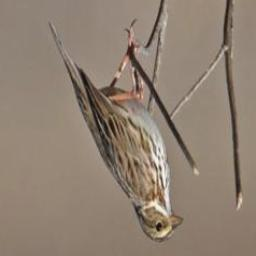Sparrow: (46, 18, 183, 243)
